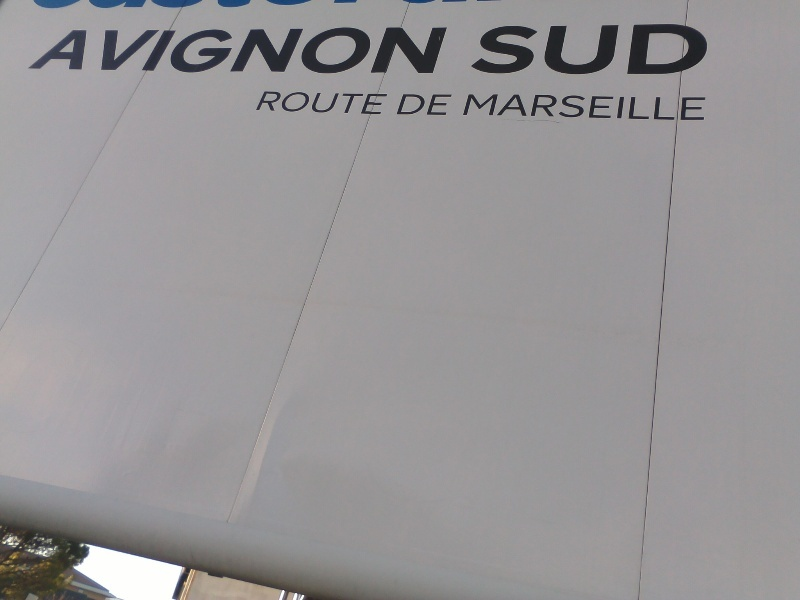text: (481, 23, 496, 76), (497, 23, 512, 76), (513, 23, 528, 76), (529, 23, 544, 76), (545, 23, 560, 76), (561, 23, 576, 76), (577, 23, 592, 76), (593, 23, 608, 76), (609, 23, 624, 76), (625, 23, 640, 76), (641, 23, 656, 76), (657, 23, 672, 76), (673, 23, 688, 76), (689, 23, 704, 76), (81, 26, 96, 76), (97, 26, 112, 76), (113, 26, 128, 76), (129, 26, 144, 76), (145, 26, 160, 76), (161, 26, 176, 76), (177, 26, 192, 76), (193, 26, 208, 76), (209, 26, 224, 76), (225, 26, 240, 76), (241, 26, 256, 76), (257, 26, 272, 76), (273, 26, 288, 76), (289, 26, 304, 76), (305, 26, 320, 76), (321, 26, 336, 76), (337, 26, 352, 76), (353, 26, 368, 76), (369, 26, 384, 76), (385, 26, 400, 76), (401, 26, 416, 76), (417, 26, 432, 76), (433, 26, 448, 76), (481, 93, 496, 121), (497, 93, 512, 121), (513, 93, 528, 121), (529, 93, 544, 121), (545, 93, 560, 121), (561, 93, 576, 121), (577, 93, 592, 121), (593, 93, 608, 121), (609, 93, 624, 121), (625, 93, 640, 121), (641, 93, 656, 121), (657, 93, 672, 121), (673, 93, 688, 121), (689, 93, 704, 121), (273, 91, 288, 115), (289, 91, 304, 115), (305, 91, 320, 115), (321, 91, 336, 115), (337, 91, 352, 115), (353, 91, 368, 115), (369, 91, 384, 115), (468, 93, 480, 121), (417, 94, 432, 116), (433, 94, 448, 116), (705, 23, 711, 76), (74, 26, 80, 76), (403, 94, 416, 116), (265, 91, 272, 115), (385, 91, 389, 115), (449, 94, 453, 116), (705, 93, 707, 121), (449, 26, 450, 76)
